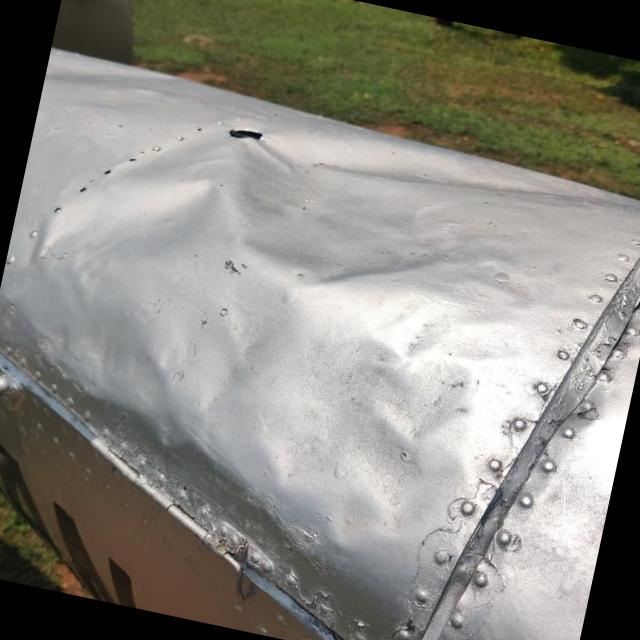Dent: (259, 276, 486, 548), (192, 134, 509, 320), (5, 114, 227, 281)
